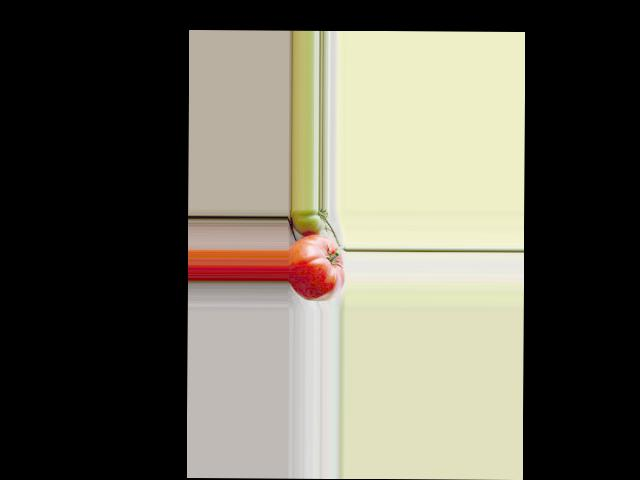tomato: (287, 234, 345, 302)
